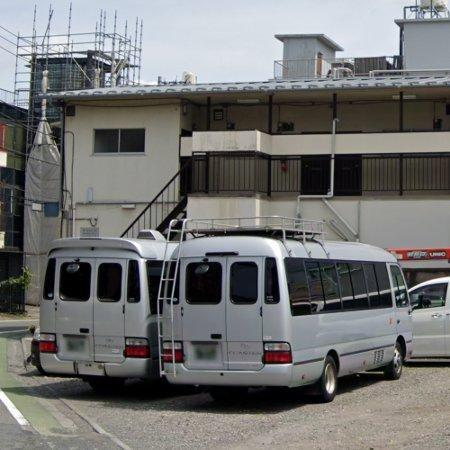buses: (159, 218, 412, 401), (40, 239, 166, 387)
